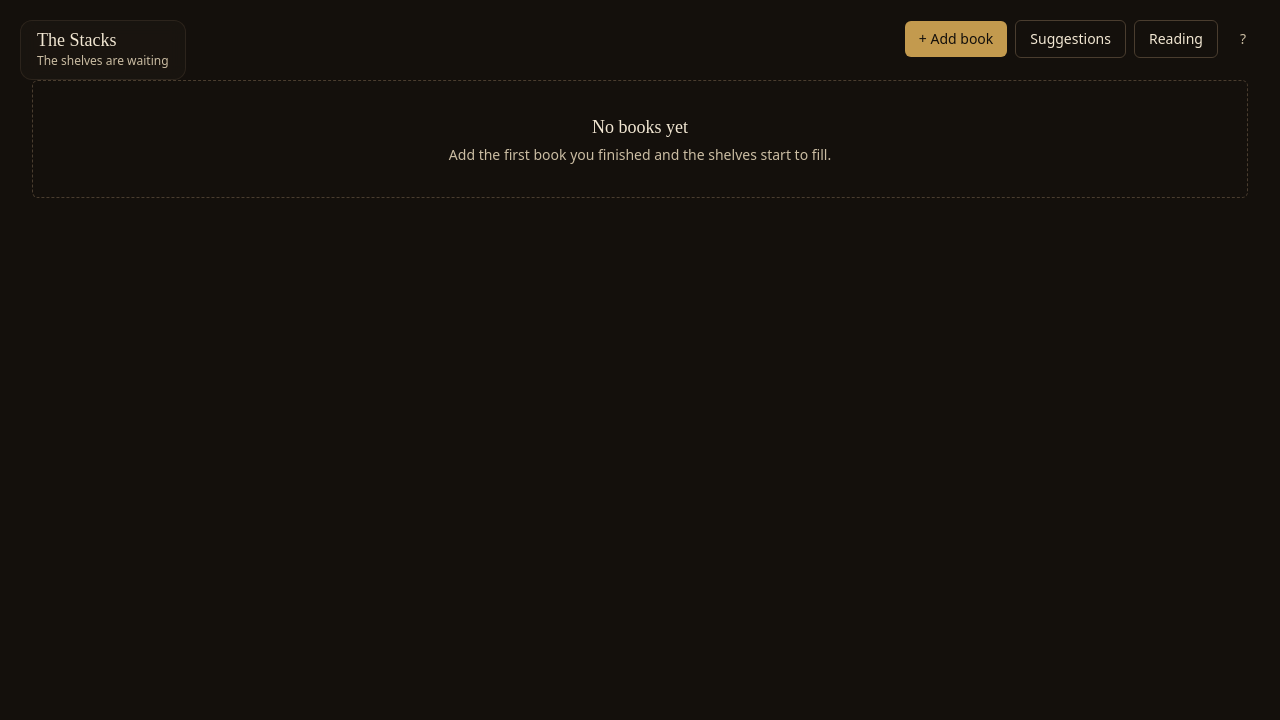
it: App › persists a submitted suggestion
Step 1. Click the button "Suggestions" → x=1071, y=39, box [1015,20,1126,58]
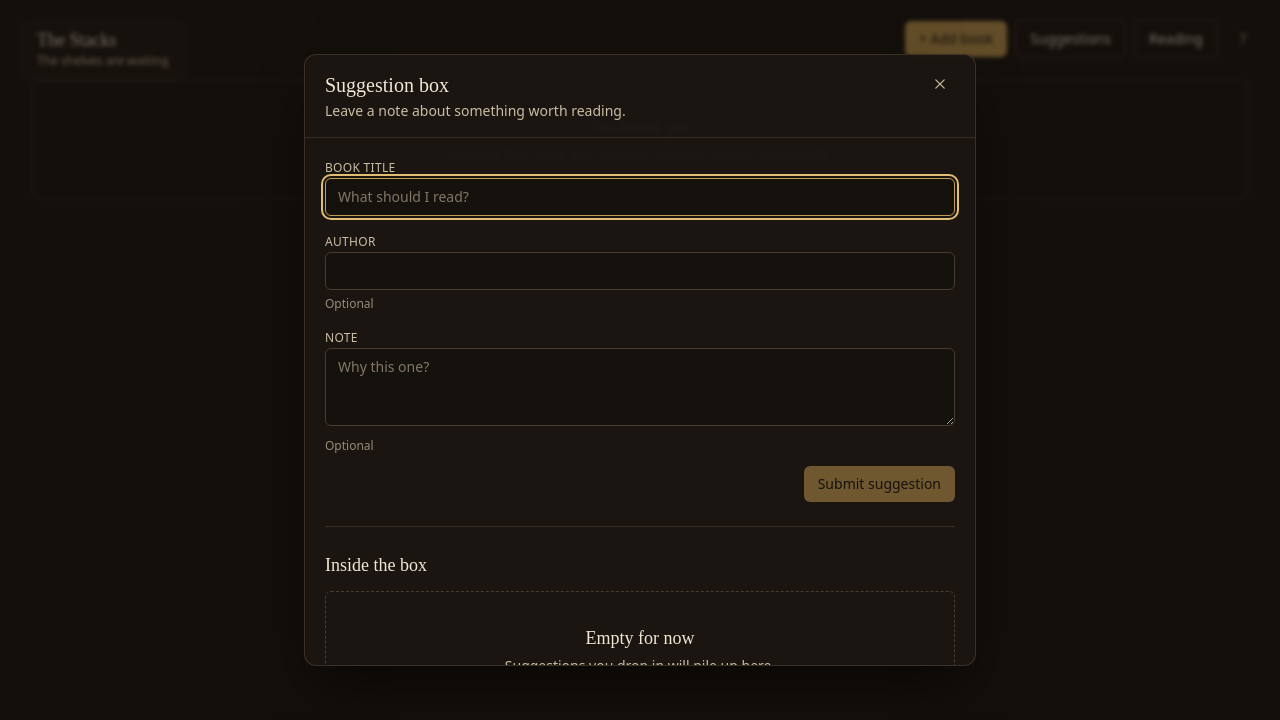
Step 2. Type "Something borrowed" into the field labelled "Book title" → x=640, y=197, box [325,178,955,216]
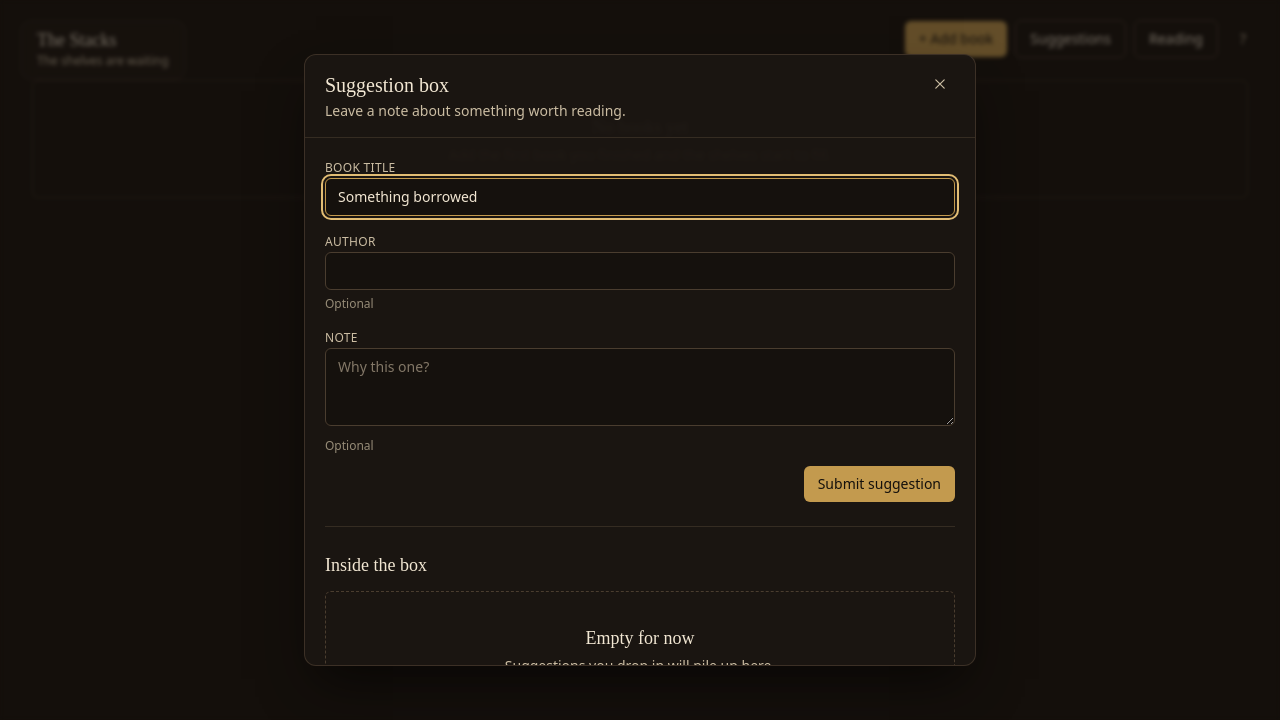
Step 3. Click the button "Submit suggestion" → x=879, y=484, box [804,466,955,502]
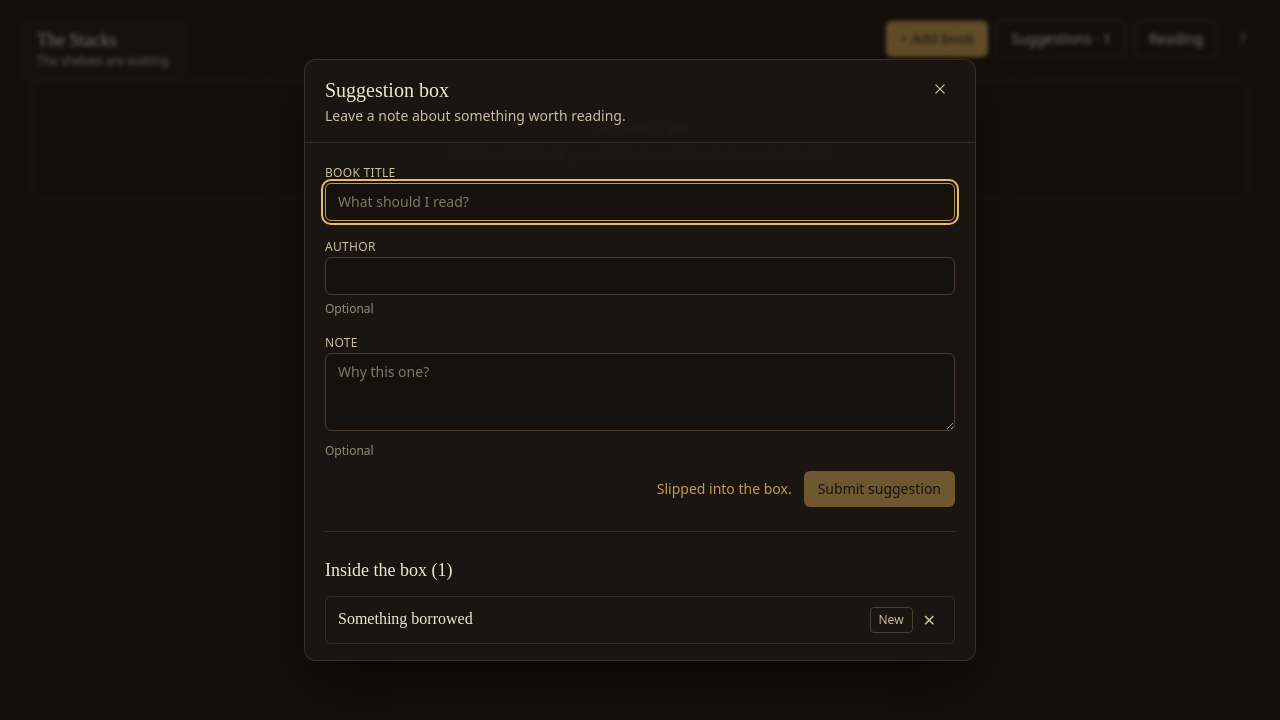
Expected: the text "Something borrowed" is shown, [338,607,473,631]
